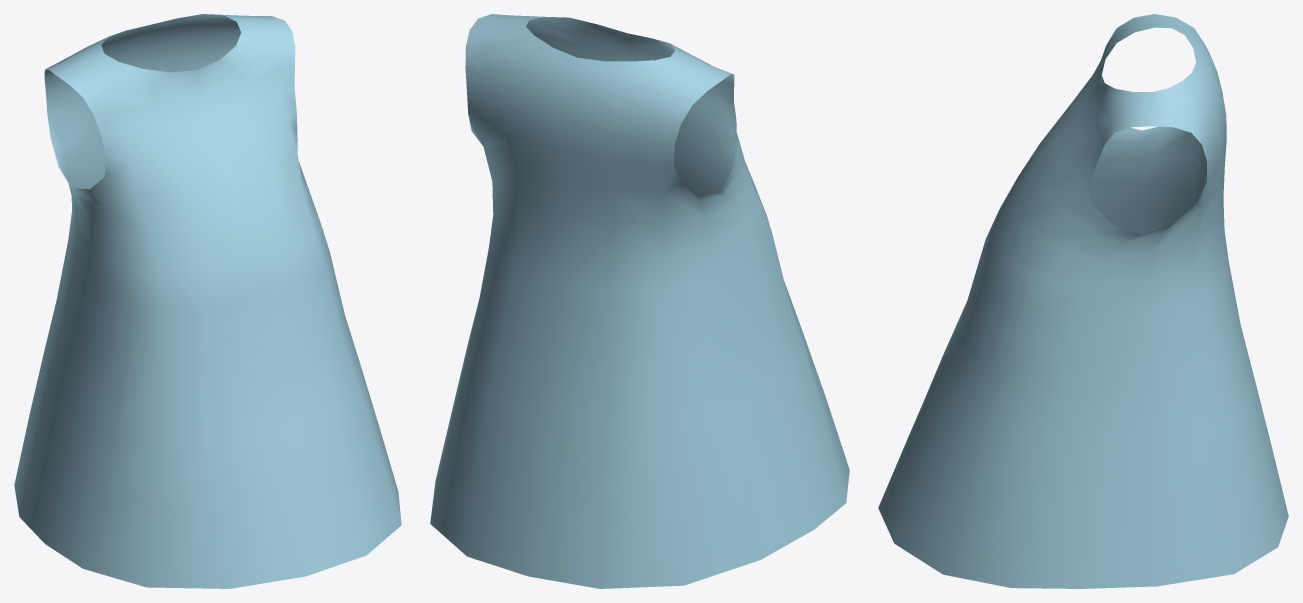
The model's file is Dress_TPOSE.fbx.
3 views of the same model, side by side, from view 1: azimuth 30°, elevation 25°; view 2: azimuth 150°, elevation 25°; view 3: azimuth 270°, elevation 25° (orthographic). The views are drawn at different scales.
Visible parts, largest first — view 1: Robe; view 2: Robe; view 3: Robe.
Boxes of the visible parts, left/top/right/bottom form: Robe: left=14, top=14, right=401, bottom=588; Robe: left=430, top=14, right=849, bottom=588; Robe: left=878, top=14, right=1288, bottom=588.
Bounding box in the file's own units: 5.12 × 6.8 × 5.52.
